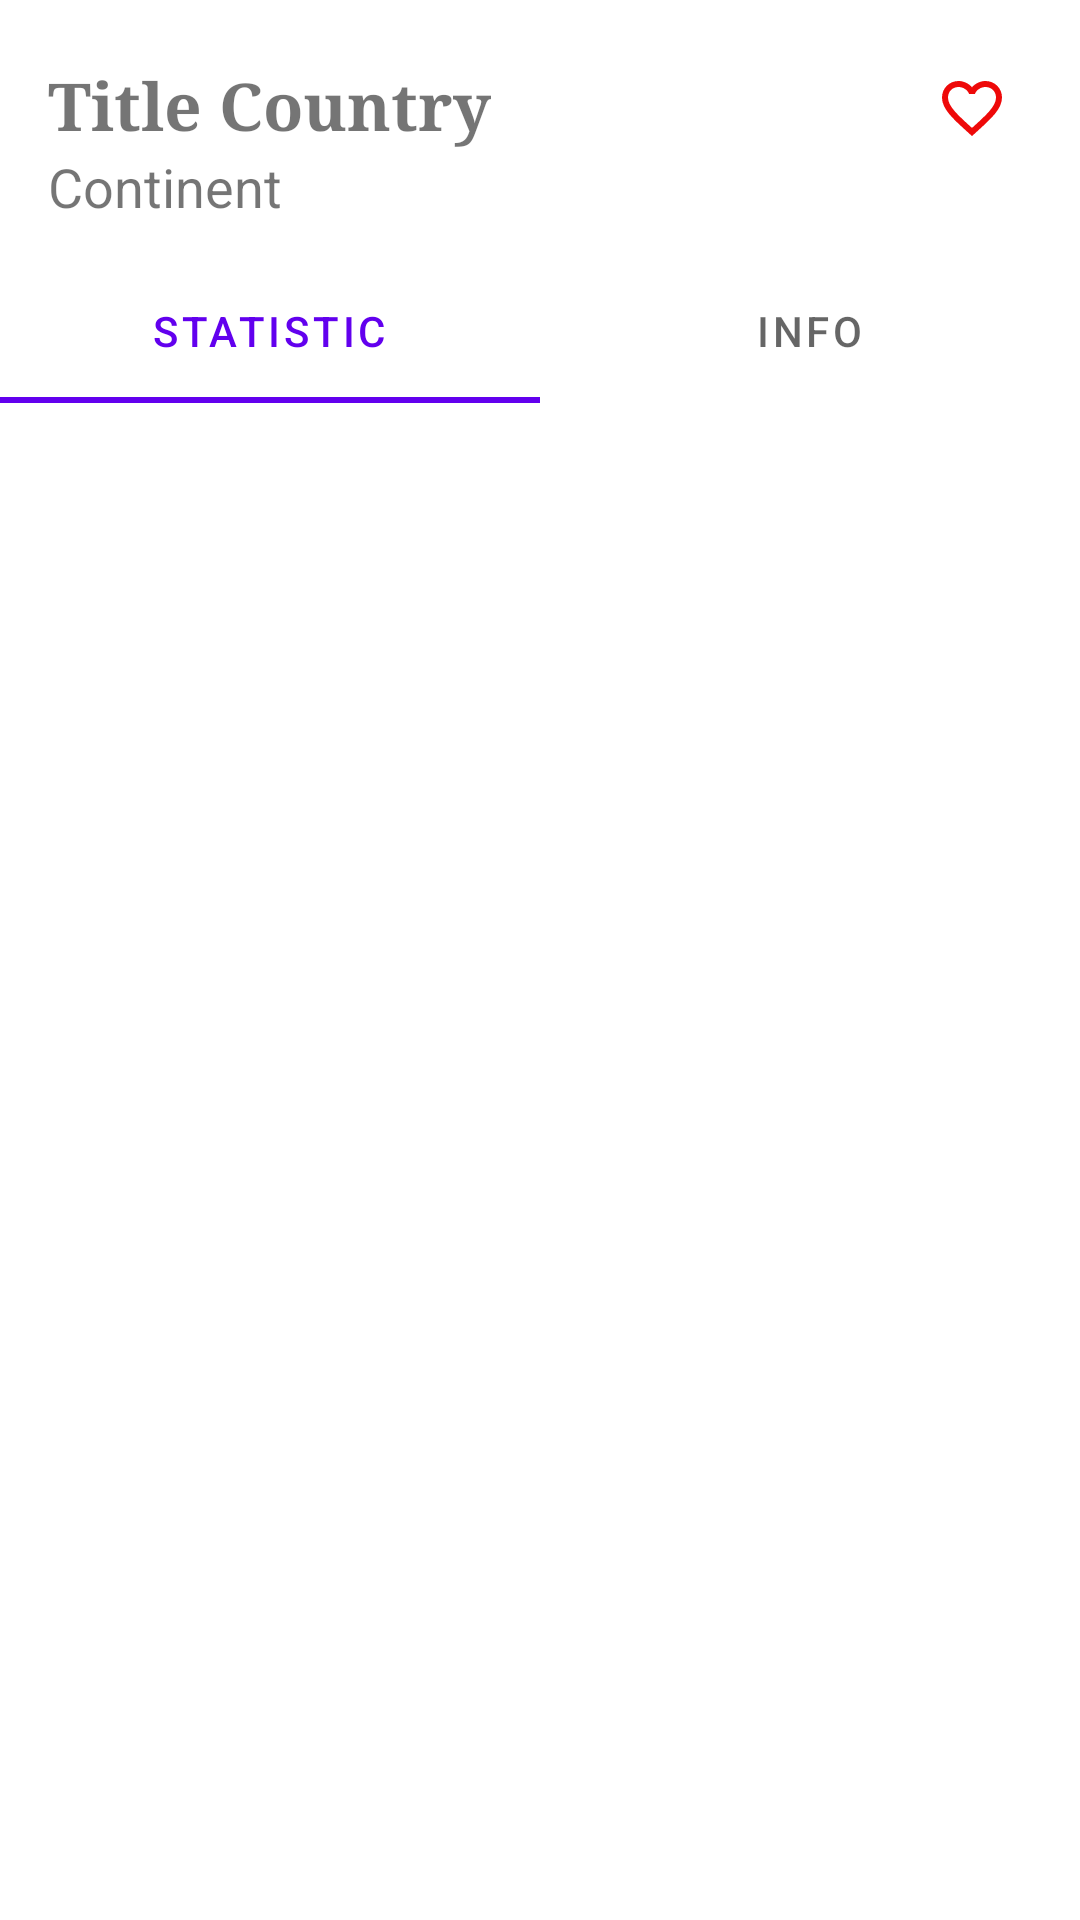

Locate icon controls on the screen. Image size 1080w x 1920h, boxes as (x1, y1, x2, y2).
Mark Favorite: (942, 81, 1002, 136)
